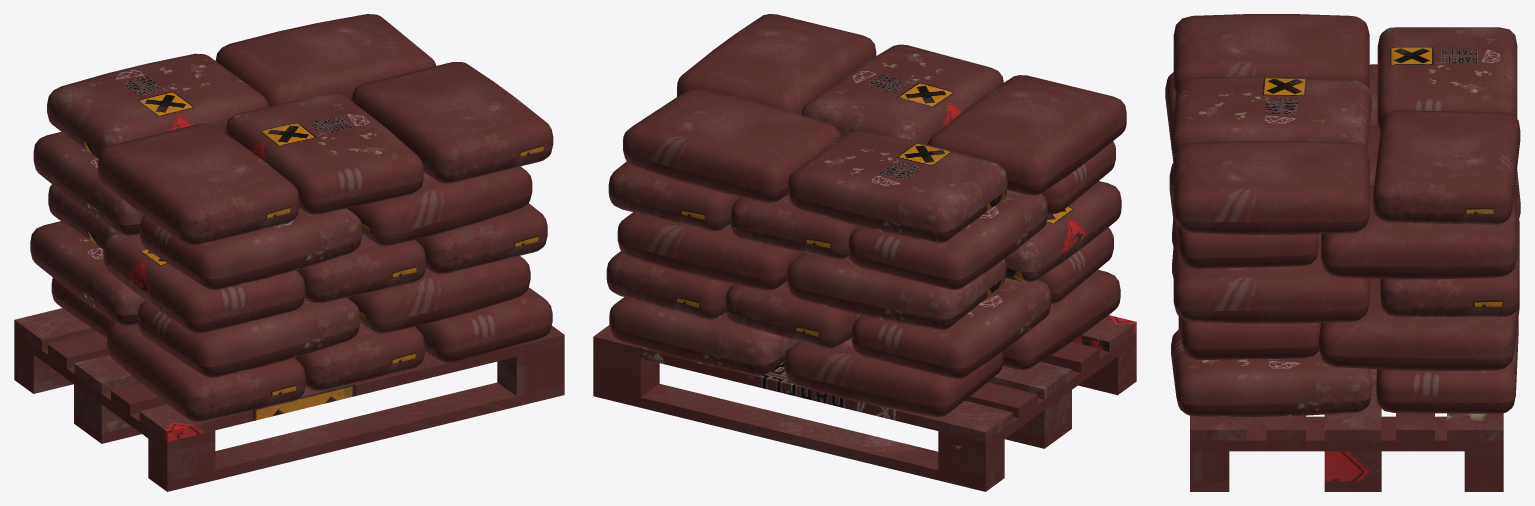
File: CS_cement_on_palette.FBX
3 views of the same model, side by side, from view 1: azimuth 30°, elevation 25°; view 2: azimuth 150°, elevation 25°; view 3: azimuth 270°, elevation 25° (orthographic). The views are drawn at different scales.
Parts seen in each view (by area): view 1: SM_cement_on_palette; view 2: SM_cement_on_palette; view 3: SM_cement_on_palette.
Part boxes in pixels (x1,y1,x2,y2): SM_cement_on_palette: [14, 14, 564, 491]; SM_cement_on_palette: [593, 14, 1136, 491]; SM_cement_on_palette: [1165, 14, 1520, 491].
Bounding box in the file's own units: 144 × 109 × 98.13.
